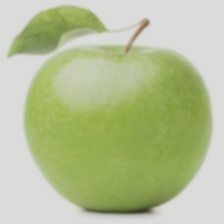apple: (42, 13, 192, 191)
